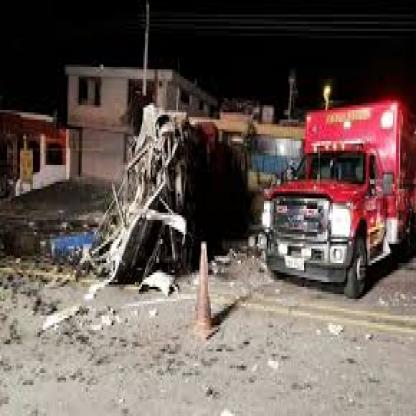accident: (46, 95, 238, 299)
